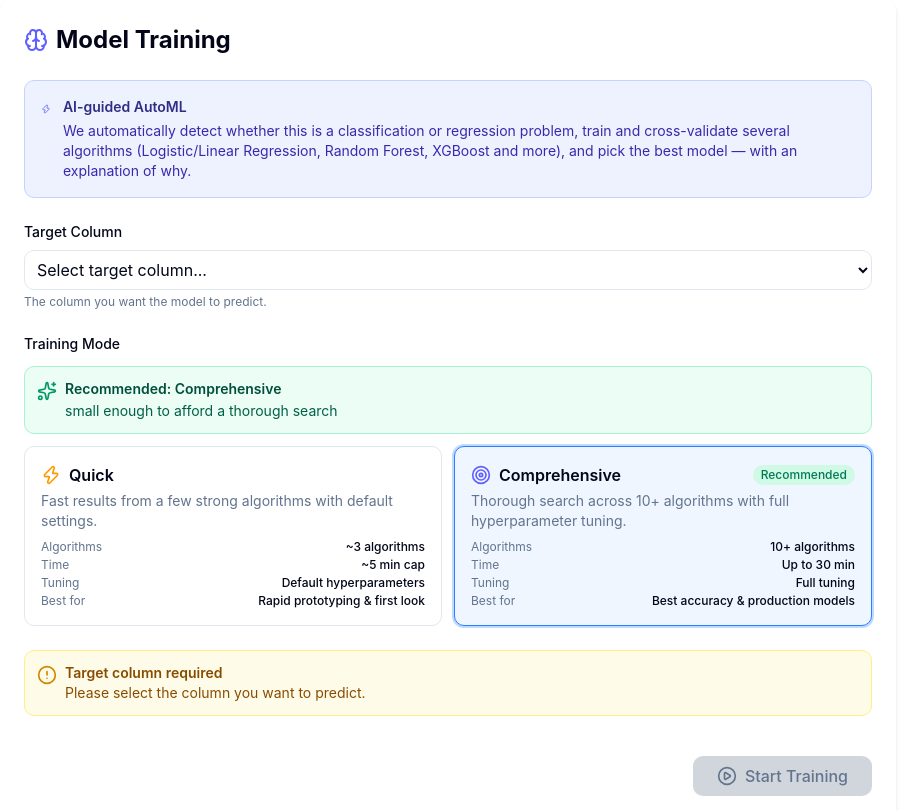
Scenario: ModelPage training wiring › surfaces a backend failure status as an error message
Expected: the element with test id "mode-recommendation" is shown, [24, 366, 872, 434]
Select "target" in the dropdown. click: {"x": 448, "y": 270}
box: [24, 250, 872, 290]
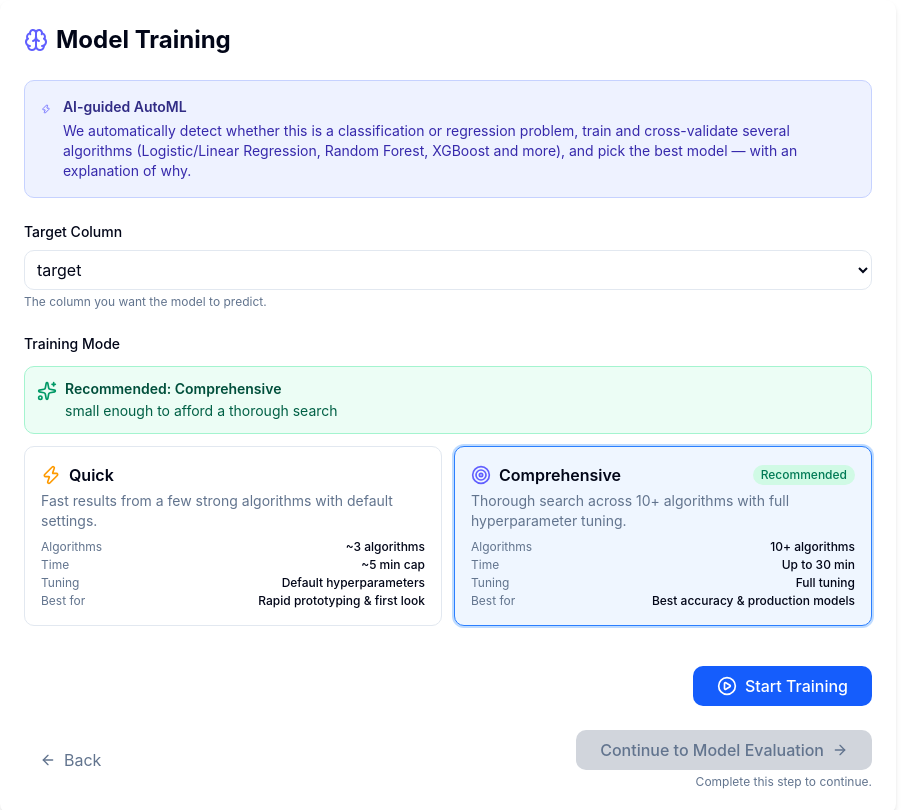
Click the button "Start Training". click: {"x": 782, "y": 686}
box: [693, 666, 872, 706]
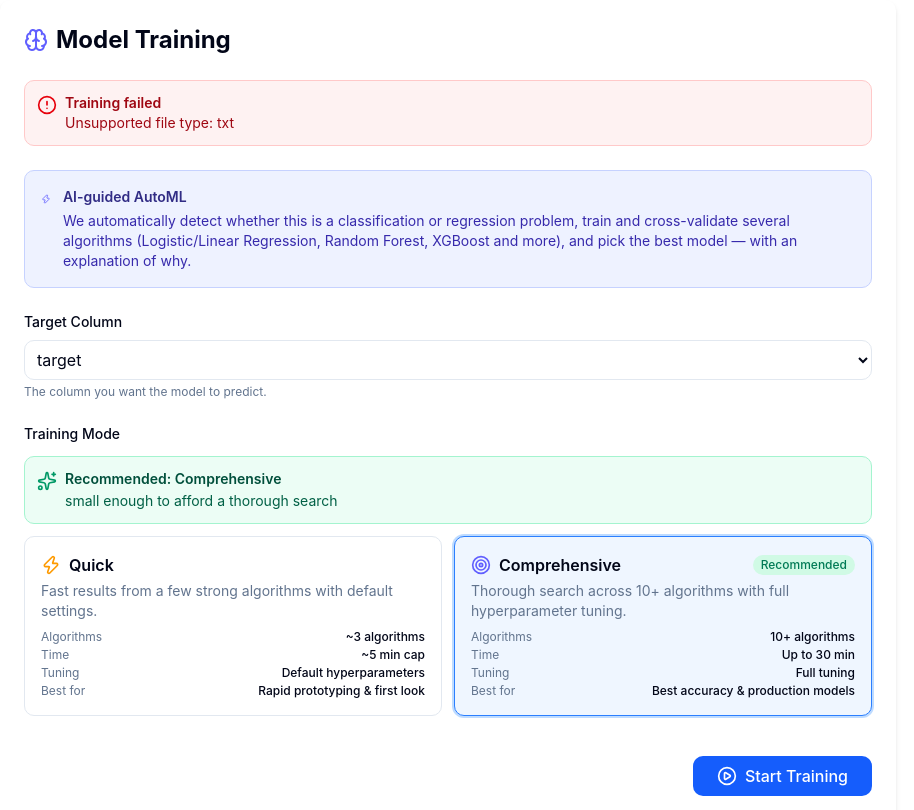
Expected: the button "Start Training" is shown, [693, 756, 872, 796]
Result: the text "Training failed" is shown at [65, 94, 161, 111]
Result: the text "Unsupported file type: txt" is shown at [65, 113, 234, 133]
